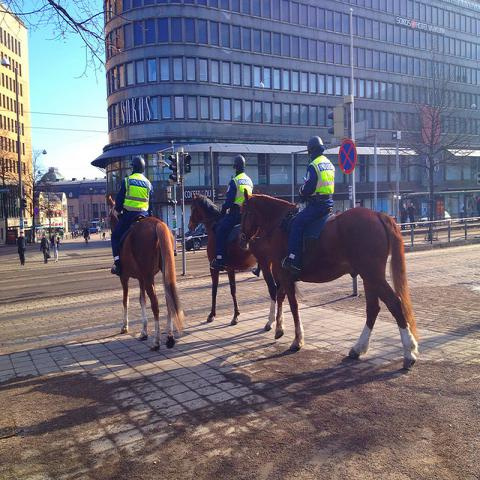car: (184, 224, 208, 250), (419, 210, 451, 222)
